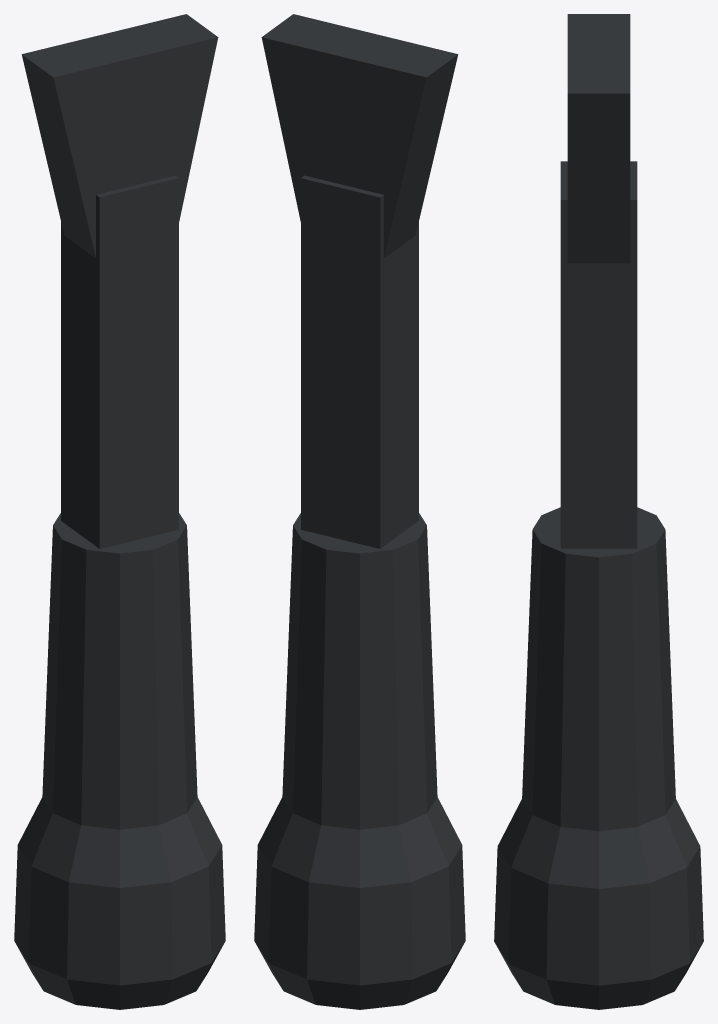
The model's file is HAND_CHISEL.shadow.glb.
3 views of the same model, side by side, from view 1: azimuth 30°, elevation 25°; view 2: azimuth 150°, elevation 25°; view 3: azimuth 270°, elevation 25° (orthographic).
Visible parts, largest first — view 1: Body_Mesh; view 2: Body_Mesh; view 3: Body_Mesh.
Boxes of the visible parts, x1=… form: Body_Mesh: x1=14, y1=14, x2=225, y2=1009; Body_Mesh: x1=254, y1=14, x2=465, y2=1009; Body_Mesh: x1=494, y1=14, x2=703, y2=1009.
Size of the model in its own units: 0.06 by 0.29 by 0.06.
1 material, 1 textured.
